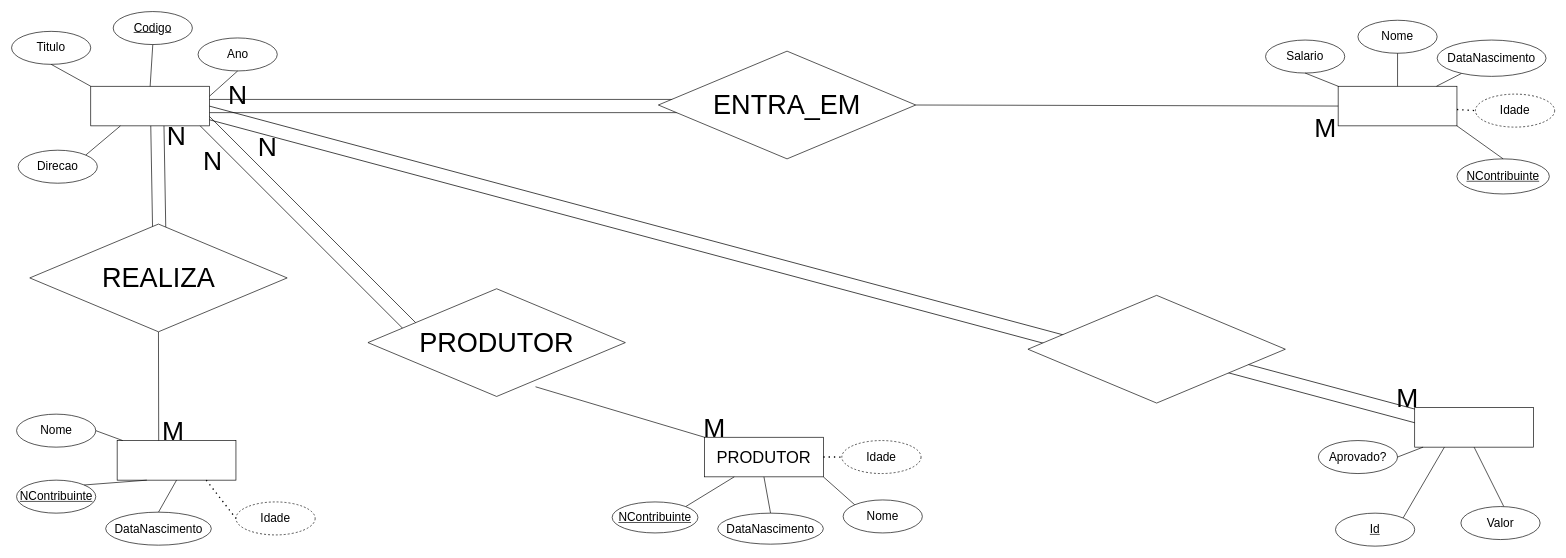
The diagram is 1566 pixels wide and 558 high, and some of its shapes have lost their labels. The shapes that lost their labels are listed below. From the top down, each one's centre as x and y in pixels, then its label:
At point (150, 106): "FILME".
At point (1397, 106): "ATOR".
At point (1156, 349): "POSSUEM".
At point (1474, 427): "ORCAMENTO".
At point (176, 460): "REALIZADOR".
